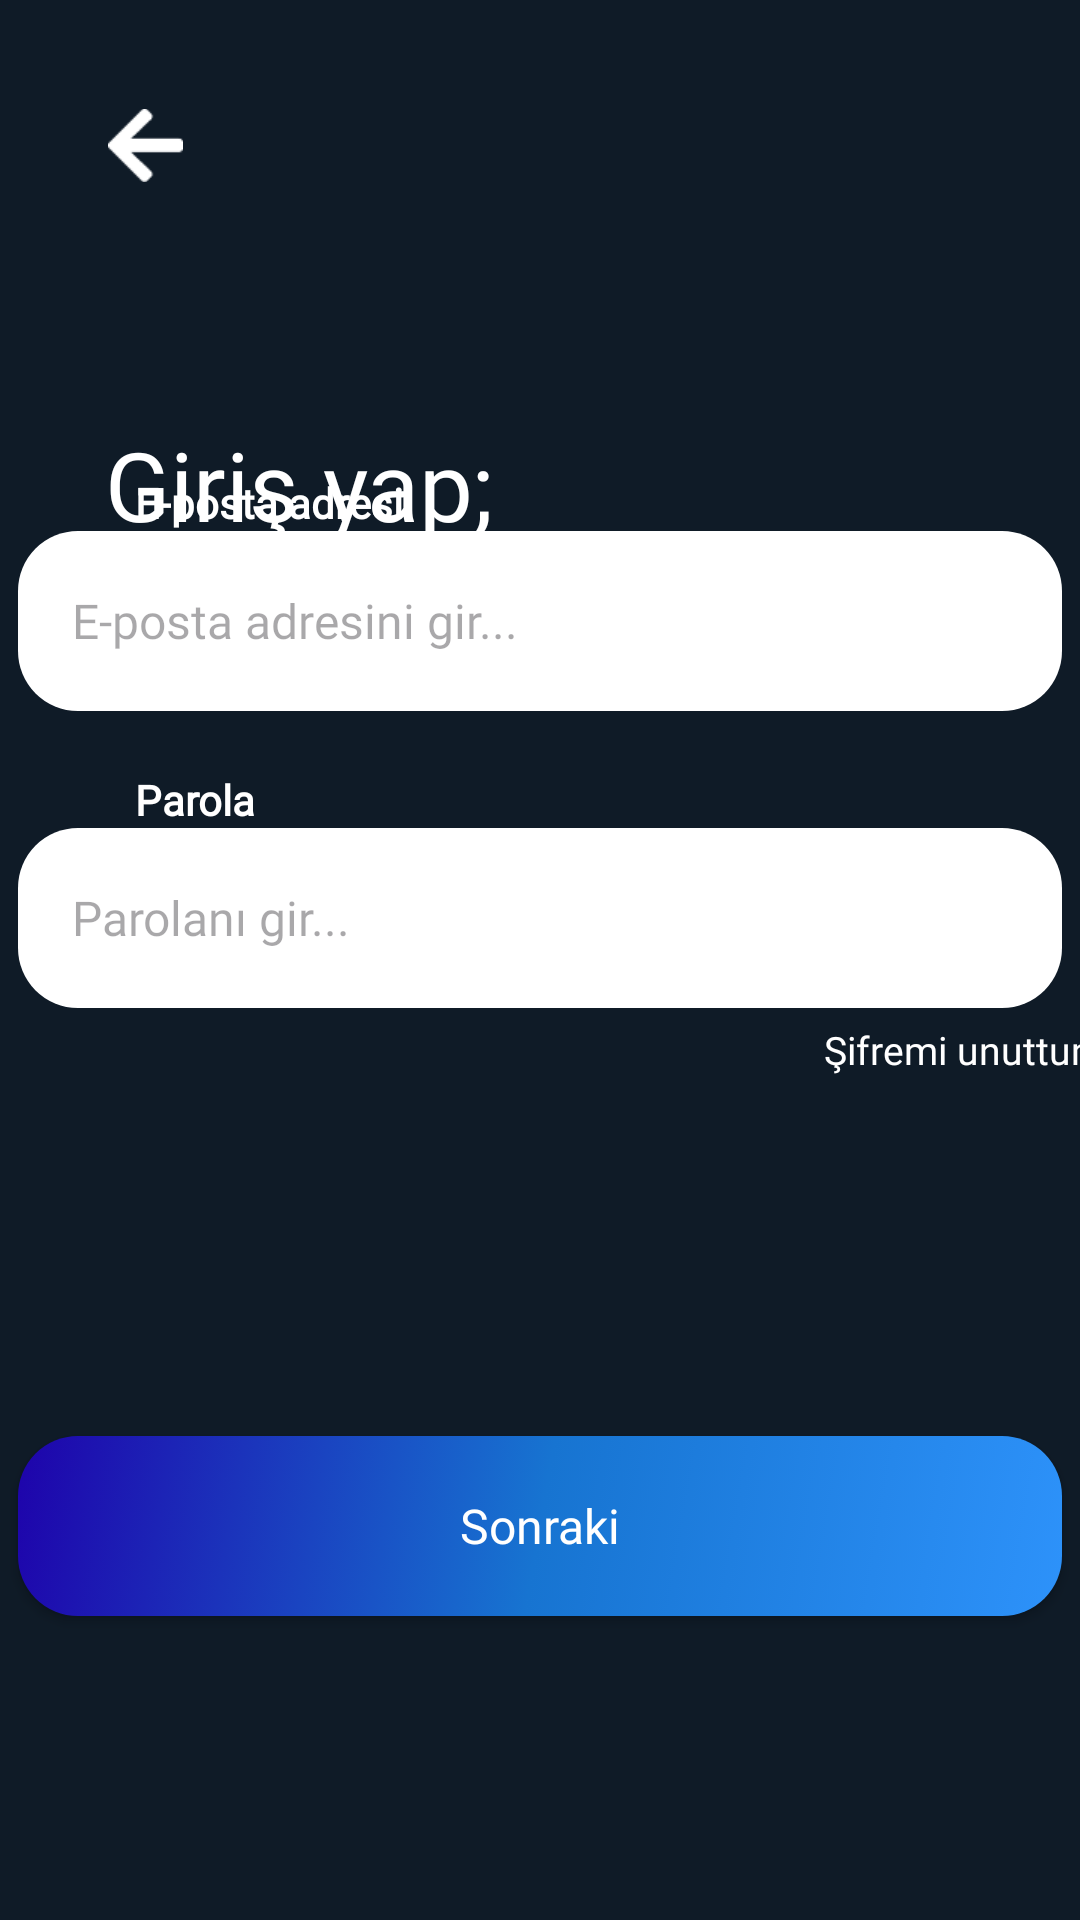

Named icons in this screenshot (1080 × 1920) and their bounding boxes, [x1=x1, y1=y1, x2=x2, y2=y2]:
back: [x1=108, y1=109, x2=183, y2=182]
